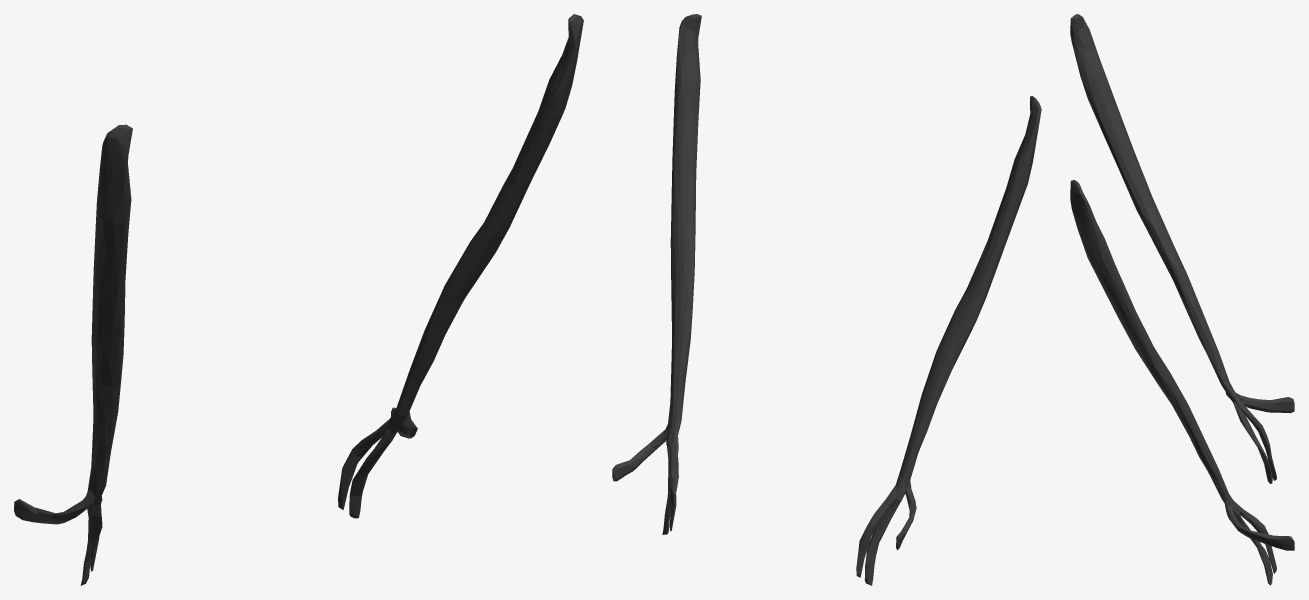
Rendered from m_peroneus_tertius.glb.
The picture shows the model from 3 angles, left to right: view 1: azimuth 30°, elevation 25°; view 2: azimuth 150°, elevation 25°; view 3: azimuth 270°, elevation 25°; orthographic projection. The views are drawn at different scales.
Parts seen in each view (by area): view 1: m_peroneus_tertius; view 2: m_peroneus_tertius; view 3: m_peroneus_tertius.
Boxes of the visible parts, x1,y1,x2,y2 form: m_peroneus_tertius: (14, 14, 583, 585); m_peroneus_tertius: (612, 14, 1041, 585); m_peroneus_tertius: (1070, 14, 1294, 585).
Bounding box in the file's own units: 0.00682 × 0.00783 × 0.00365.
1 material, 1 textured.
